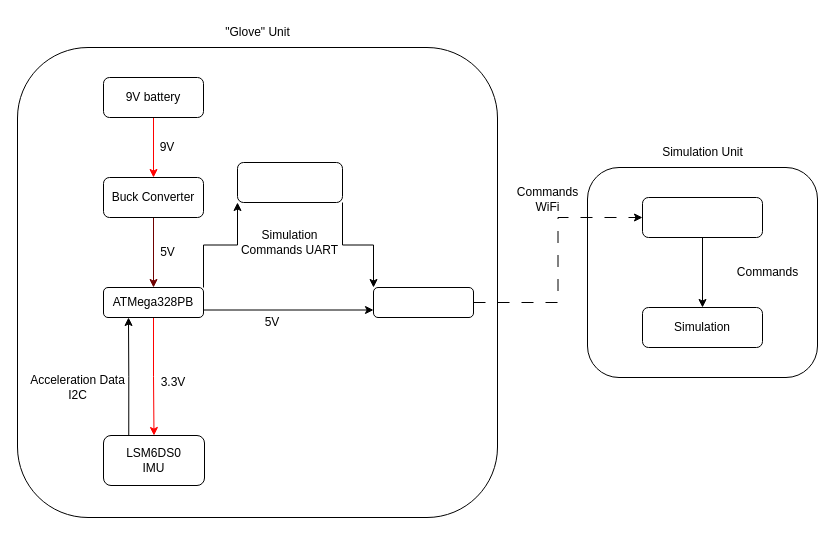
This 835x543 diagram has some shape labels left out. The box of each missing label's shape, as (x1, y1, x2, y2) in pixels:
ESP32: (372, 286, 474, 318)
Logic Level Shifter (5V to 3.3V): (236, 162, 342, 202)
Python Socket: (642, 196, 762, 238)
